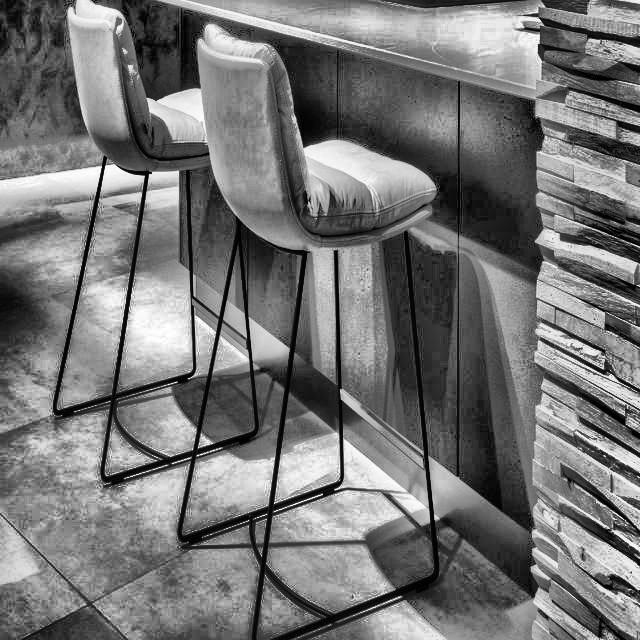cadeira: (176, 16, 443, 640), (49, 0, 261, 490), (45, 0, 214, 182)
